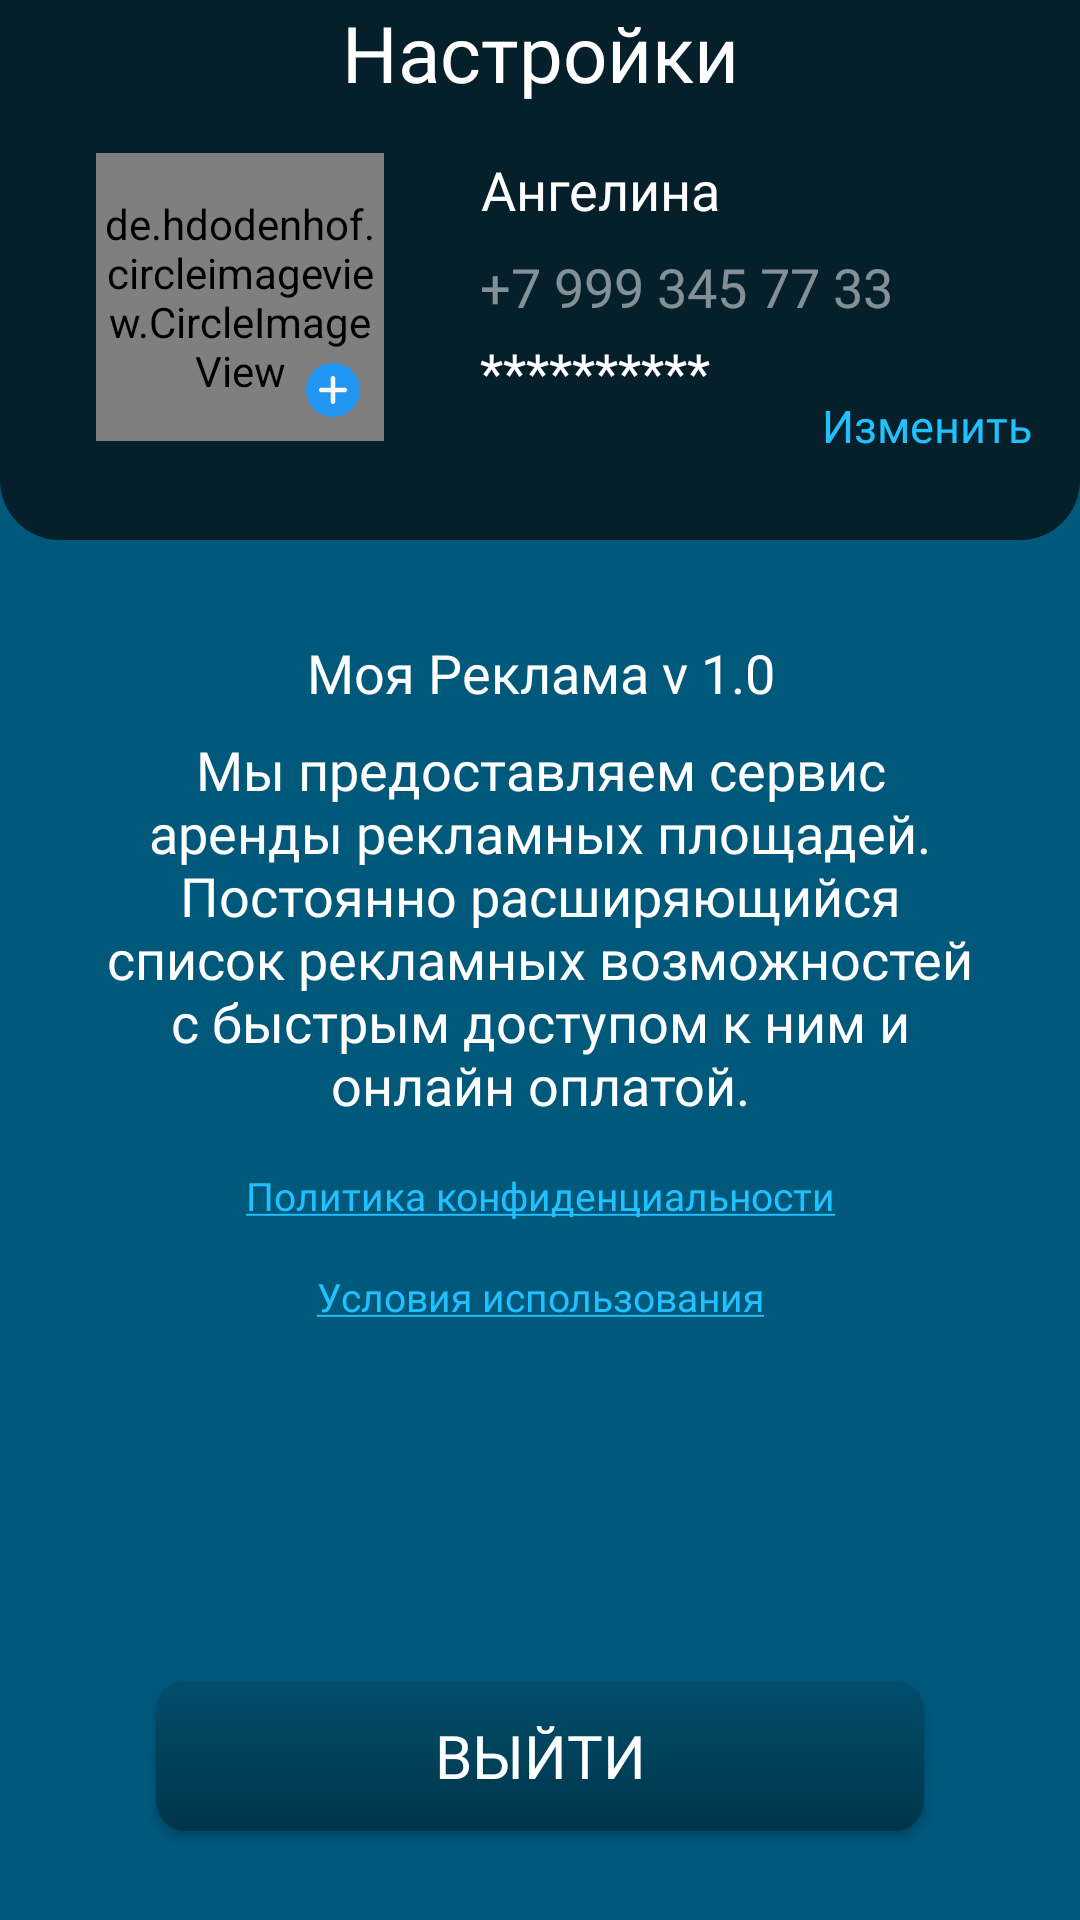

Named icons in this screenshot (1080w x 1920h) and their bounding boxes, (x1, y1, x2, y2):
plus: (306, 363, 360, 417)
